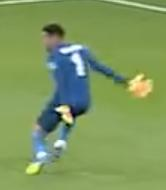goalkeeper: (7, 11, 166, 190)
